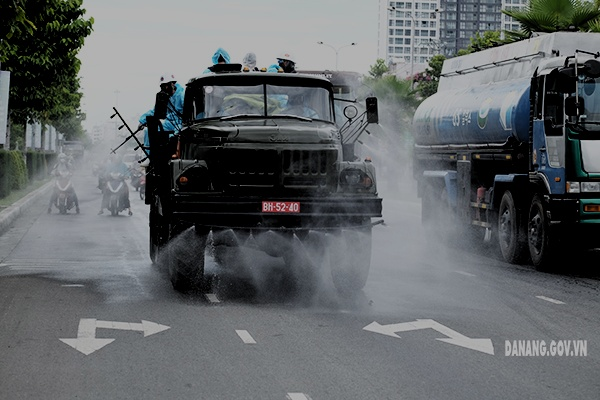plate: (258, 199, 299, 216)
